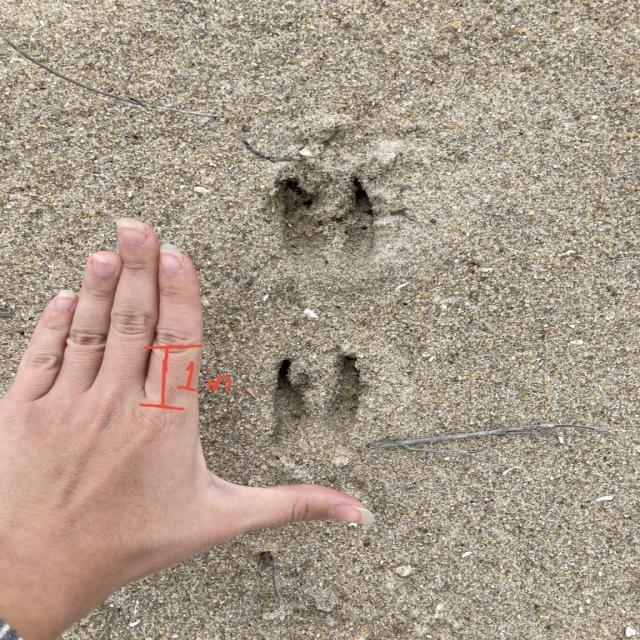deer: (275, 176, 392, 260), (268, 357, 368, 435)
